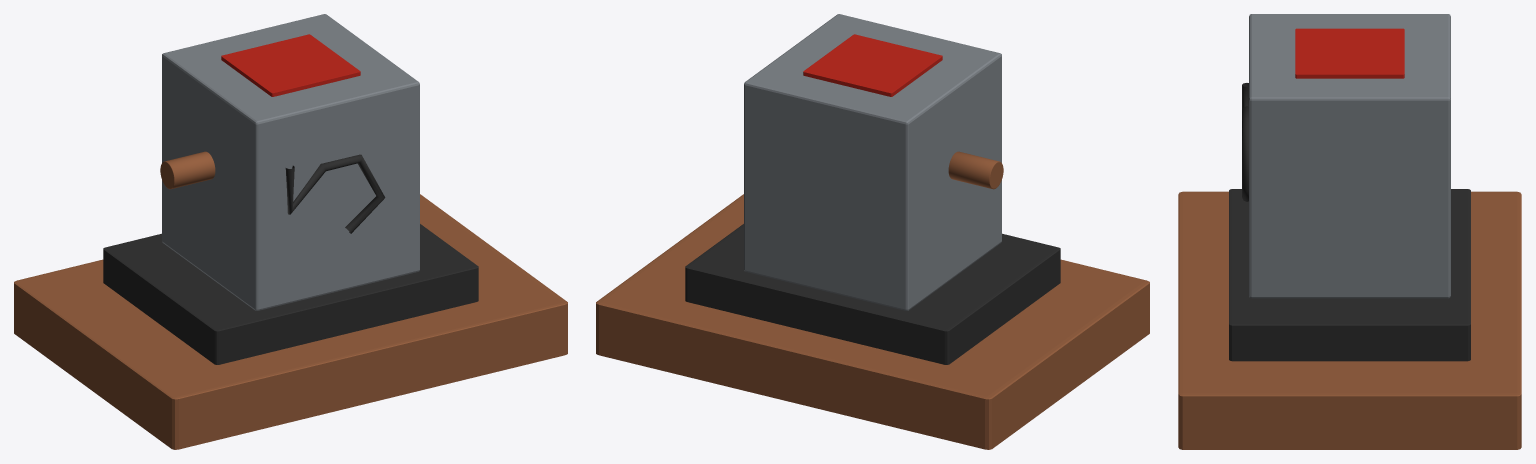
The picture shows the model from 3 angles, left to right: view 1: azimuth 30°, elevation 25°; view 2: azimuth 150°, elevation 25°; view 3: azimuth 270°, elevation 25°; orthographic projection. The views are drawn at different scales.
Parts seen in each view (by area): view 1: TI068 / gray inscribed cube, TI068 / low wide relic plinth, TI068 / stepped slab, TI068 / red top seal, TI068 / authored angular front motif, TI068 / side connector; view 2: TI068 / gray inscribed cube, TI068 / low wide relic plinth, TI068 / stepped slab, TI068 / red top seal, TI068 / side connector; view 3: TI068 / gray inscribed cube, TI068 / low wide relic plinth, TI068 / stepped slab, TI068 / red top seal, TI068 / authored angular front motif.
Part boxes in pixels (box(x1,y1,x2,y2)): TI068 / gray inscribed cube: box(162, 14, 419, 310); TI068 / low wide relic plinth: box(14, 194, 567, 449); TI068 / stepped slab: box(103, 224, 478, 364); TI068 / red top seal: box(221, 34, 360, 96); TI068 / authored angular front motif: box(285, 154, 385, 233); TI068 / side connector: box(160, 151, 215, 189); TI068 / gray inscribed cube: box(744, 14, 1001, 310); TI068 / low wide relic plinth: box(596, 194, 1149, 449); TI068 / stepped slab: box(685, 224, 1060, 364); TI068 / red top seal: box(803, 34, 942, 96); TI068 / side connector: box(948, 151, 1003, 189); TI068 / gray inscribed cube: box(1249, 14, 1450, 298); TI068 / low wide relic plinth: box(1178, 191, 1521, 449); TI068 / stepped slab: box(1229, 189, 1470, 361); TI068 / red top seal: box(1295, 28, 1404, 78); TI068 / authored angular front motif: box(1242, 83, 1248, 201).
Bounding box in the file's own units: 2.4 × 1.62 × 1.7.
